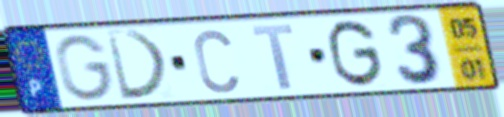3: (385, 12, 445, 88)
C: (190, 26, 241, 96)
D: (103, 28, 173, 103)
G: (52, 32, 117, 103), (326, 17, 387, 90)
T: (248, 22, 297, 93)
